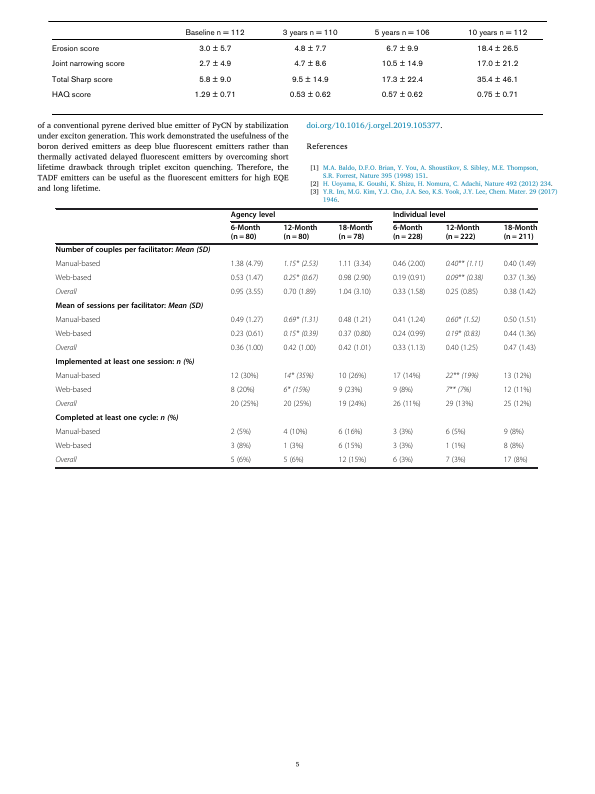borderless: (54, 207, 537, 467), (47, 19, 543, 114)
cell: (55, 246, 211, 256), (55, 302, 204, 312), (55, 358, 195, 368), (55, 414, 179, 424), (50, 60, 125, 70), (283, 224, 318, 243), (338, 224, 373, 243), (445, 224, 480, 243), (503, 224, 538, 243), (50, 75, 113, 85), (466, 28, 528, 38), (184, 28, 245, 38), (392, 224, 424, 243), (230, 224, 261, 243), (281, 28, 338, 38), (373, 28, 430, 38), (392, 211, 447, 220), (50, 44, 99, 54), (475, 44, 519, 54), (475, 60, 519, 70), (475, 75, 519, 85), (475, 91, 519, 101), (380, 60, 423, 70), (380, 75, 423, 85), (193, 91, 236, 101), (288, 91, 331, 101), (380, 91, 423, 101), (230, 211, 276, 220), (55, 260, 101, 269), (55, 316, 101, 325), (55, 372, 101, 381), (55, 428, 101, 437), (50, 91, 91, 101), (290, 75, 329, 85), (445, 260, 484, 269), (445, 274, 484, 283), (198, 44, 232, 54), (293, 44, 327, 54), (385, 44, 419, 54), (198, 60, 232, 70), (293, 60, 327, 70), (198, 75, 232, 85), (55, 274, 92, 283), (55, 330, 92, 339), (55, 386, 92, 395), (55, 442, 92, 451), (283, 260, 319, 269), (283, 274, 319, 283), (283, 316, 319, 325), (445, 316, 481, 325), (283, 330, 319, 339), (445, 330, 481, 339), (445, 372, 480, 381), (230, 260, 264, 269), (338, 260, 372, 269), (392, 260, 426, 269), (503, 260, 537, 269), (230, 274, 264, 283), (338, 274, 372, 283), (392, 274, 426, 283), (503, 274, 537, 283), (230, 288, 264, 297), (283, 288, 317, 297), (338, 288, 372, 297), (392, 288, 426, 297), (445, 288, 479, 297), (503, 288, 537, 297), (230, 316, 264, 325), (338, 316, 372, 325), (392, 316, 426, 325), (503, 316, 537, 325), (230, 330, 264, 339), (338, 330, 372, 339), (392, 330, 426, 339), (503, 330, 537, 339), (230, 344, 264, 353), (283, 344, 317, 353), (338, 344, 372, 353), (392, 344, 426, 353), (445, 344, 479, 353), (503, 344, 537, 353), (283, 372, 314, 381), (392, 372, 422, 381), (392, 400, 422, 409), (230, 372, 259, 381), (338, 372, 367, 381), (503, 372, 532, 381), (503, 386, 532, 395), (230, 400, 259, 409), (283, 400, 312, 409), (338, 400, 367, 409), (445, 400, 474, 409), (503, 400, 532, 409), (338, 456, 367, 465), (283, 386, 311, 395), (445, 386, 472, 395), (230, 386, 256, 395), (503, 456, 529, 465), (338, 386, 363, 395), (283, 428, 308, 437), (338, 428, 363, 437), (338, 442, 363, 451), (55, 288, 78, 297), (55, 344, 78, 353), (55, 400, 78, 409), (55, 456, 78, 465), (392, 386, 414, 395), (230, 428, 252, 437), (392, 428, 414, 437), (445, 428, 467, 437), (503, 428, 525, 437), (230, 442, 252, 451), (283, 442, 305, 451), (392, 442, 414, 451), (445, 442, 467, 451), (503, 442, 525, 451), (230, 456, 252, 465), (283, 456, 305, 465), (392, 456, 414, 465), (445, 456, 467, 465)
